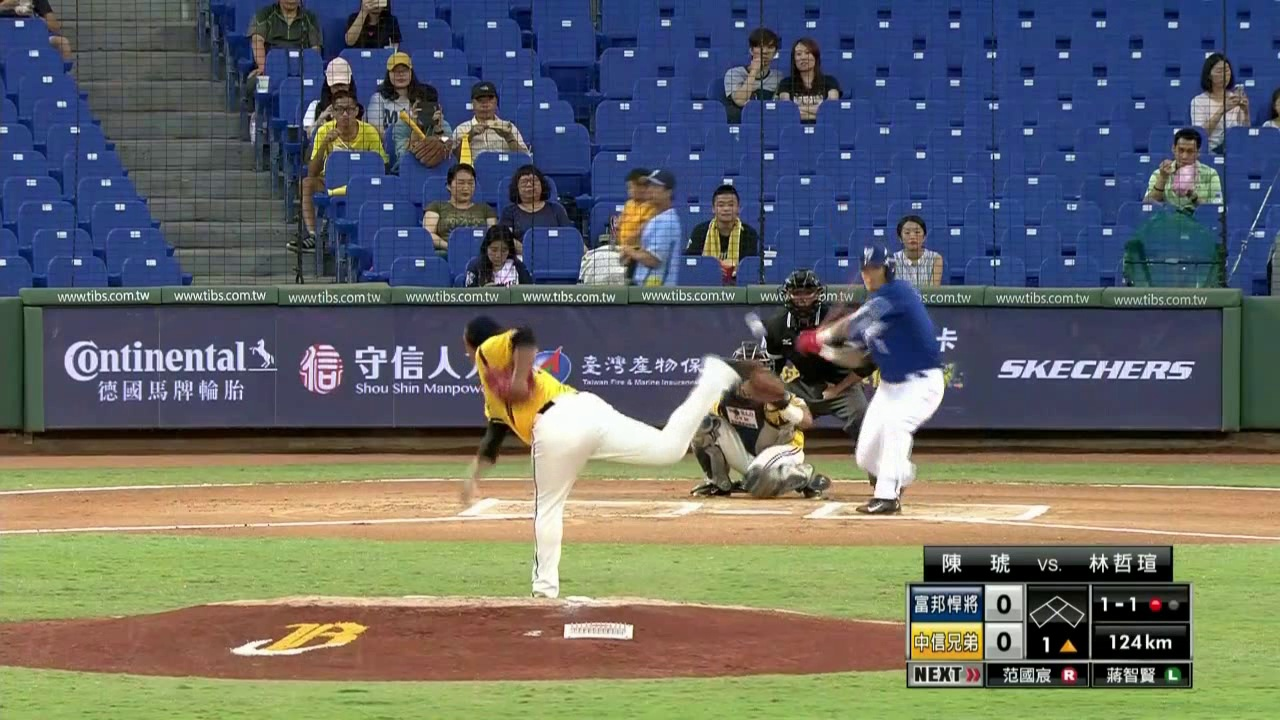ball: (752, 323, 760, 336)
base: (1031, 589, 1087, 633)
bat: (823, 277, 862, 324)
out: (1145, 594, 1183, 616)
score1: (990, 591, 1017, 615)
score2: (990, 630, 1015, 657)
session: (1031, 630, 1086, 658)
speed: (1095, 627, 1185, 661)
strikeball: (1094, 590, 1140, 620)
